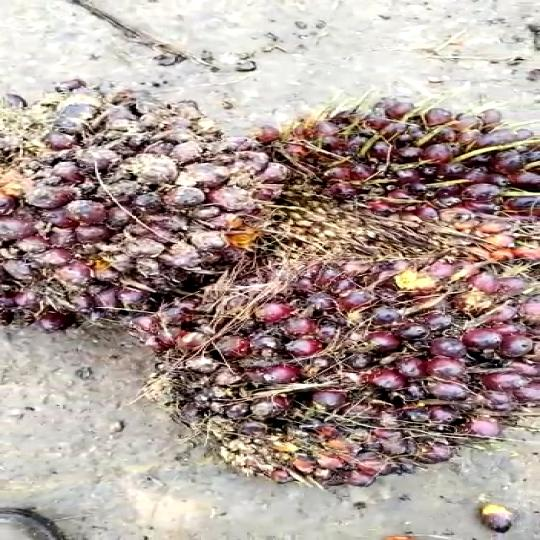kurang masak: (161, 241, 540, 468), (0, 73, 285, 333)
